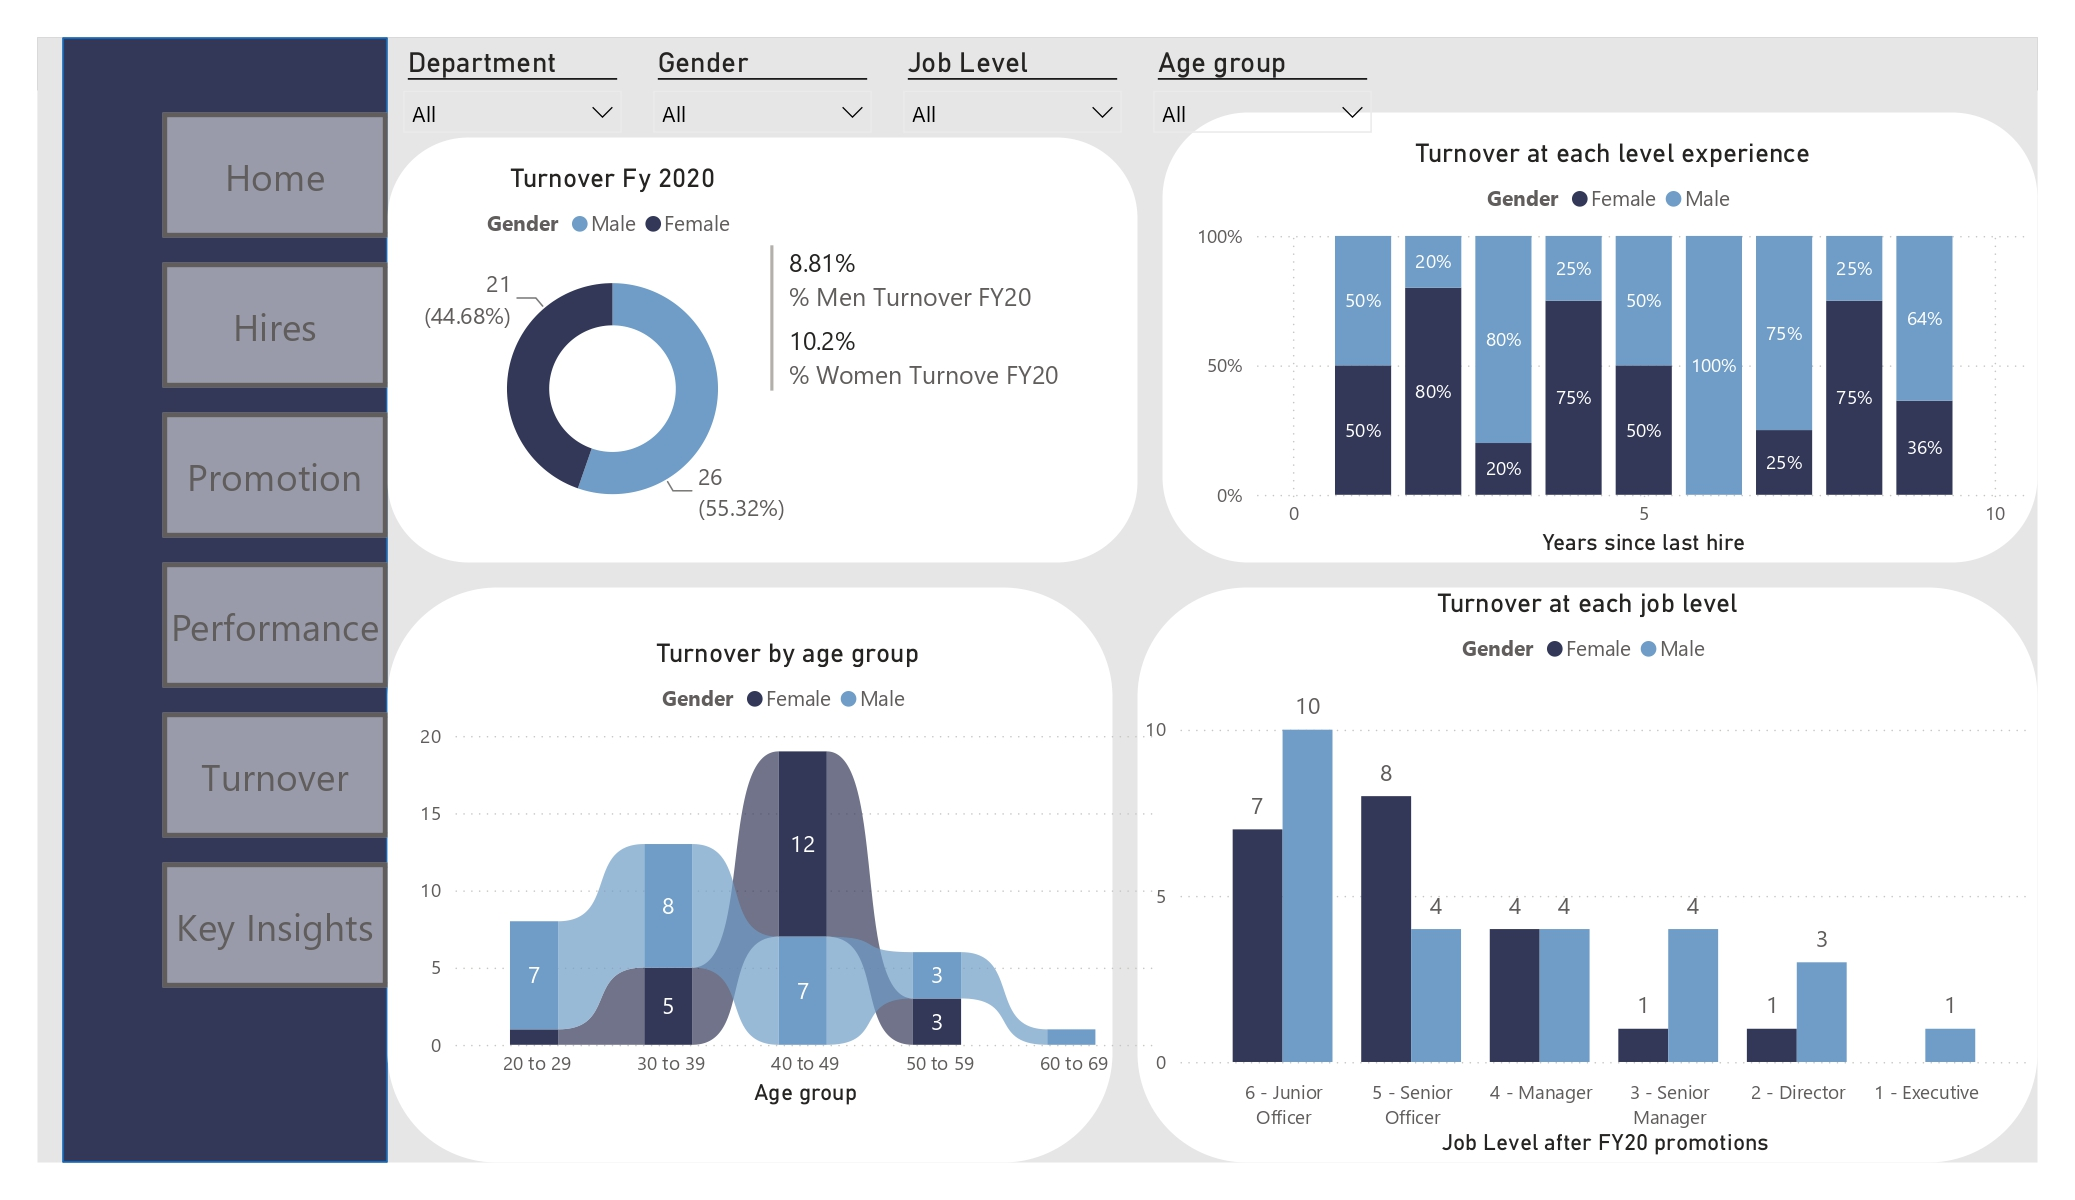

What the dashboard file says about the page in this screenshot:
{"tool":"powerbi","page":{"name":"Turnover","canvas":[1280,720],"ordinal":4},"visuals":[{"type":"shape","box":[16,0,208,720],"z":0},{"type":"shape","box":[704,352,576,368],"z":1000},{"type":"shape","box":[720,48,560,288],"z":2000},{"type":"shape","box":[224,352,464,368],"z":3000},{"type":"shape","box":[224,64,480,272],"z":4000},{"type":"actionButton","box":[80,144,144,80],"z":5000},{"type":"actionButton","box":[80,240,144,80],"z":6000},{"type":"actionButton","box":[80,336,144,80],"z":7000},{"type":"actionButton","box":[80,432,144,80],"z":8000},{"type":"actionButton","box":[80,528,144,80],"z":9000},{"type":"actionButton","box":[80,48,144,80],"z":10000},{"type":"slicer","fields":{"Values":["Pharma Group AG.Last Department in FY20"]},"box":[224,0,160,64],"z":11000},{"type":"slicer","fields":{"Values":["Pharma Group AG.Gender"]},"box":[384,0,160,64],"z":12000},{"type":"slicer","fields":{"Values":["Pharma Group AG.Job Level group for PRA"]},"box":[544,0,160,64],"z":13000},{"type":"slicer","fields":{"Values":["Pharma Group AG.Age group"]},"box":[704,0,160,64],"z":14000},{"type":"donutChart","title":"Turnover Fy 2020","fields":{"Category":["Pharma Group AG.Gender"],"Y":["Measure.No of leaver"]},"box":[224,80,288,240],"z":15000},{"type":"multiRowCard","fields":{"Values":["Measure.% Men Turnover FY20","Measure.% Women Turnove FY20"]},"box":[464,128,224,128],"z":16000},{"type":"clusteredColumnChart","title":"Turnover at each job level","fields":{"Series":["Pharma Group AG.Gender"],"Category":["Pharma Group AG.Job Level after FY20 promotions"],"Y":["Measure.no of tunover men"]},"box":[704,352,576,368],"z":17000},{"type":"hundredPercentStackedColumnChart","title":"Turnover at each level experience","fields":{"Category":["Pharma Group AG.Years since last hire"],"Series":["Pharma Group AG.Gender"],"Y":["Measure.no of tunover men"]},"box":[736,64,544,272],"z":18000},{"type":"ribbonChart","title":"Turnover by age group","fields":{"Category":["Pharma Group AG.Age group"],"Y":["Measure.no of tunover men"],"Series":["Pharma Group AG.Gender"]},"box":[240,384,480,304],"z":19000}]}

Visuals, with their boxes on the page's 1280x720 design canvas (x1, y1, x2, y2). These are canvas units, not pixel positions in the 2075x1200 screenshot, which may show the page scaled, cropped or inside an application window:
shape: left=16, top=0, right=224, bottom=720
shape: left=704, top=352, right=1280, bottom=720
shape: left=720, top=48, right=1280, bottom=336
shape: left=224, top=352, right=688, bottom=720
shape: left=224, top=64, right=704, bottom=336
actionButton: left=80, top=144, right=224, bottom=224
actionButton: left=80, top=240, right=224, bottom=320
actionButton: left=80, top=336, right=224, bottom=416
actionButton: left=80, top=432, right=224, bottom=512
actionButton: left=80, top=528, right=224, bottom=608
actionButton: left=80, top=48, right=224, bottom=128
slicer - Pharma Group AG.Last Department in FY20: left=224, top=0, right=384, bottom=64
slicer - Pharma Group AG.Gender: left=384, top=0, right=544, bottom=64
slicer - Pharma Group AG.Job Level group for PRA: left=544, top=0, right=704, bottom=64
slicer - Pharma Group AG.Age group: left=704, top=0, right=864, bottom=64
"Turnover Fy 2020" donutChart: left=224, top=80, right=512, bottom=320
multiRowCard - Measure.% Men Turnover FY20 x Measure.% Women Turnove FY20: left=464, top=128, right=688, bottom=256
"Turnover at each job level" clusteredColumnChart: left=704, top=352, right=1280, bottom=720
"Turnover at each level experience" hundredPercentStackedColumnChart: left=736, top=64, right=1280, bottom=336
"Turnover by age group" ribbonChart: left=240, top=384, right=720, bottom=688
